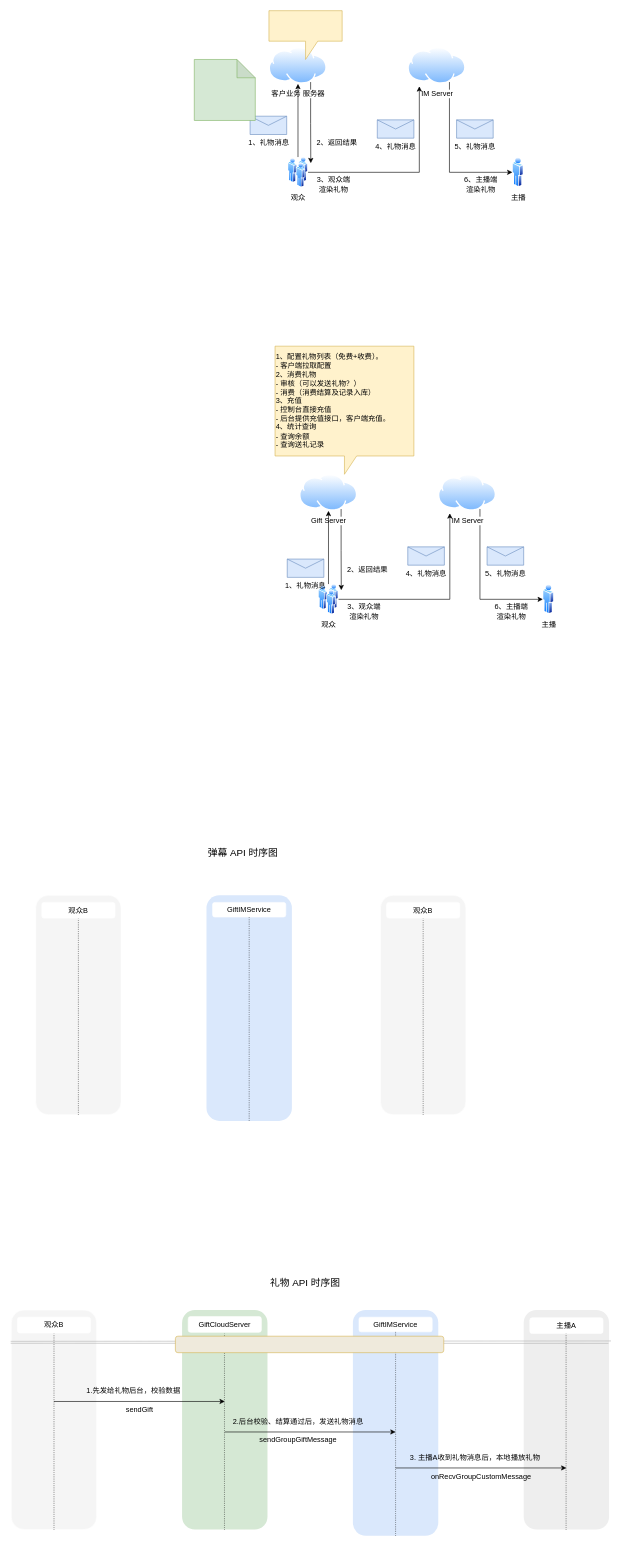
Image size: 623x1547. Some labels were removed from this diagram. The shapes that lost their labels are listed below. From the top down, each one's centre as x and y in pixels, then its label:
At [305,34]: "审核、记录、消费".
At [224,89]: "重点业务： 1、获取礼物列表 2、礼物消费 3、余额充值".
At [309,1344]: "以主播A 与 观众B 为例展示逻辑".
